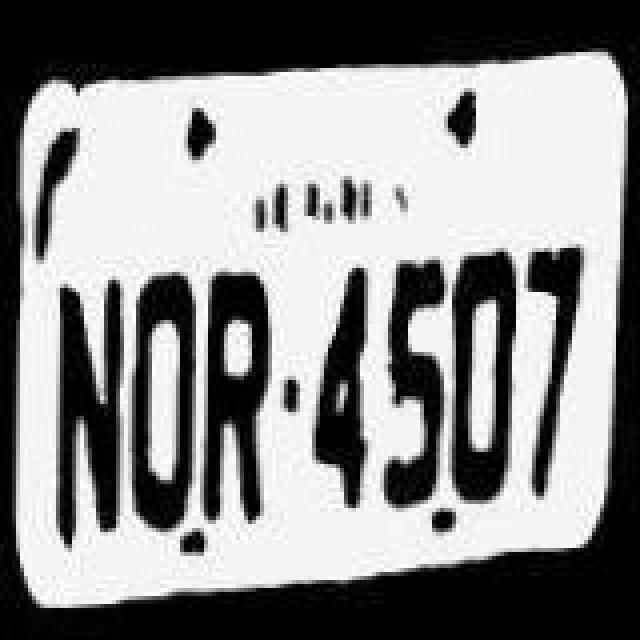4: (304, 242, 380, 518)
5: (370, 246, 450, 518)
7: (514, 234, 598, 510)
N: (50, 262, 130, 546)
O: (442, 240, 522, 516), (124, 250, 200, 530)
R: (198, 254, 278, 526)
